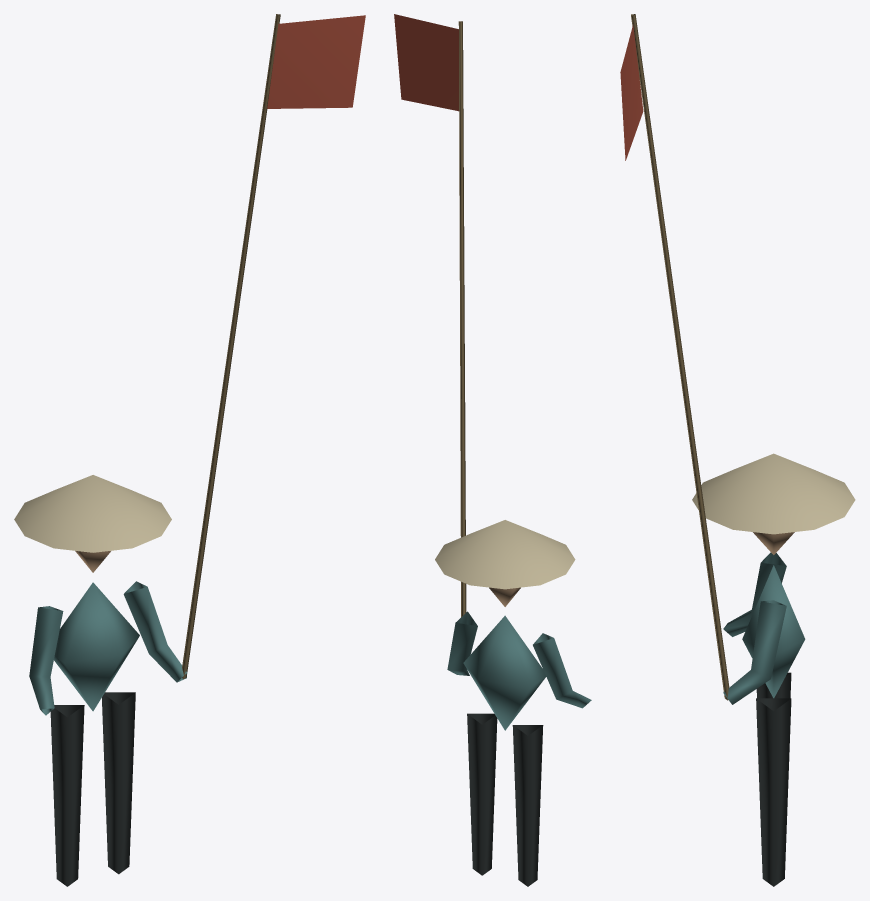
Rendered from keeper-1.glb.
3 renders of one model, left to right at view 1: azimuth 30°, elevation 25°; view 2: azimuth 150°, elevation 25°; view 3: azimuth 270°, elevation 25°, orthographic. The views are drawn at different scales.
Visible parts, largest first — view 1: keeper; view 2: keeper; view 3: keeper.
Boxes of the visible parts, left/top/right/bottom form: keeper: left=14, top=14, right=365, bottom=886; keeper: left=394, top=14, right=591, bottom=886; keeper: left=620, top=14, right=855, bottom=886.
Size of the model in its own units: 1.28 by 3.94 by 0.92.
